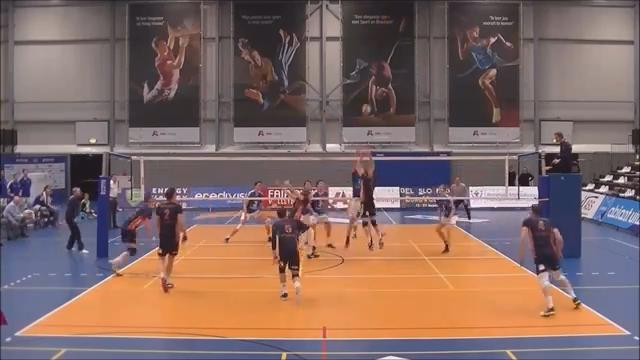Player: (519, 205, 580, 316), (110, 194, 153, 276), (271, 208, 308, 299), (156, 188, 186, 291), (224, 181, 270, 242), (311, 180, 334, 248), (436, 185, 457, 254), (345, 157, 360, 247), (287, 180, 312, 225)
Set: (353, 147, 389, 250)
ball: (361, 105, 370, 115)
